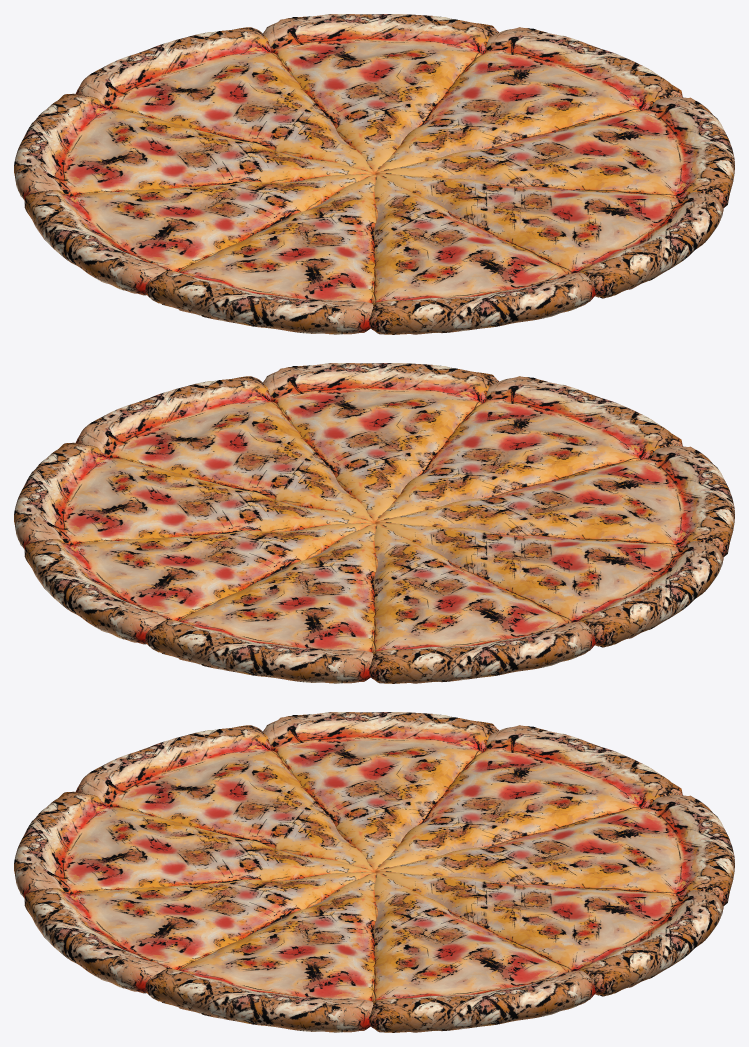
File: Pizza.fbx
3 renders of one model, top to bottom at view 1: azimuth 30°, elevation 25°; view 2: azimuth 150°, elevation 25°; view 3: azimuth 270°, elevation 25°, orthographic.
Parts seen in each view (by area): view 1: PizzaSculpt_Low; view 2: PizzaSculpt_Low; view 3: PizzaSculpt_Low.
Boxes of the visible parts, <box> form: PizzaSculpt_Low: <box>14,14,734,334</box>; PizzaSculpt_Low: <box>14,363,734,683</box>; PizzaSculpt_Low: <box>14,712,734,1032</box>.
Size of the model in its own units: 54.14 by 2.17 by 54.26.
